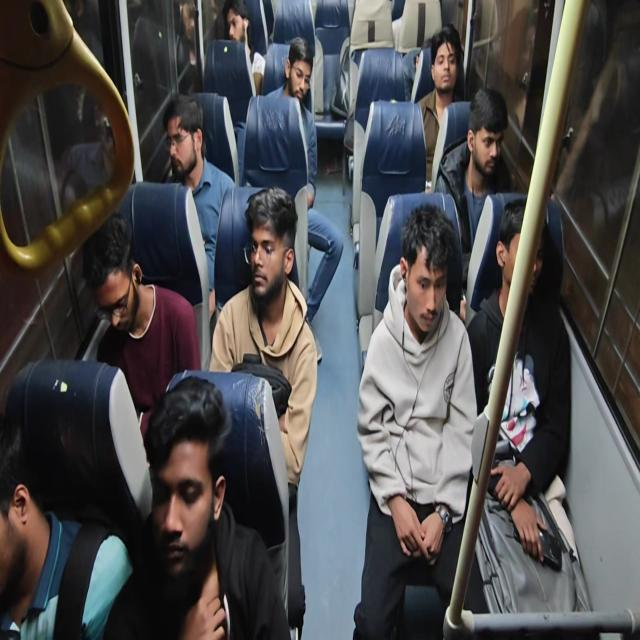person: (352, 202, 480, 638), (465, 198, 589, 614), (103, 375, 292, 639), (208, 186, 318, 636), (0, 418, 134, 639), (82, 211, 202, 445), (264, 37, 344, 327), (162, 92, 236, 316), (434, 86, 511, 289), (416, 24, 466, 192), (222, 0, 265, 96), (267, 36, 314, 107), (175, 1, 203, 93)
